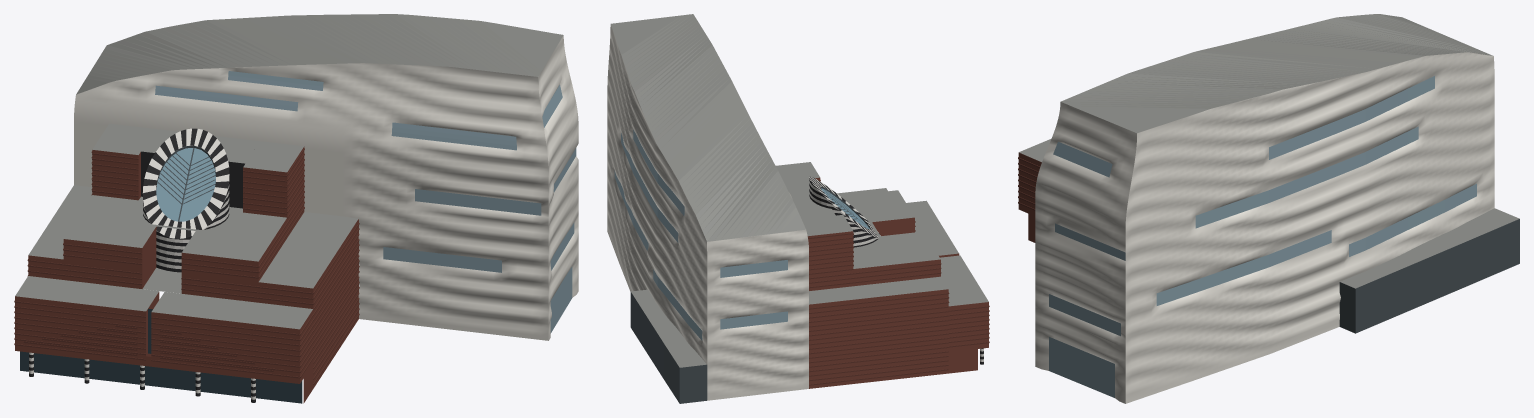
Rendered from sfmoma-near.glb.
The picture shows the model from 3 angles, left to right: view 1: azimuth 30°, elevation 25°; view 2: azimuth 150°, elevation 25°; view 3: azimuth 270°, elevation 25°; orthographic projection. The views are drawn at different scales.
Visible parts, largest first — view 1: sfmoma-0-frp, sfmoma-0-concrete, sfmoma-0-brick, sfmoma-0-brickDark, sfmoma-0-glass, sfmoma-0-glassDark, sfmoma-0-stoneBlack, sfmoma-0-stoneWhite, sfmoma-0-glow, sfmoma-0-steel; view 2: sfmoma-0-concrete, sfmoma-0-frp, sfmoma-0-brick, sfmoma-0-brickDark, sfmoma-0-glass, sfmoma-0-steel, sfmoma-0-stoneBlack, sfmoma-0-stoneWhite, sfmoma-0-glow; view 3: sfmoma-0-frp, sfmoma-0-concrete, sfmoma-0-glass, sfmoma-0-steel, sfmoma-0-brick.
Boxes of the visible parts, left/top/right/bottom form: sfmoma-0-frp: left=74, top=35, right=578, bottom=340; sfmoma-0-concrete: left=15, top=14, right=563, bottom=329; sfmoma-0-brick: left=15, top=146, right=358, bottom=403; sfmoma-0-brickDark: left=14, top=148, right=359, bottom=384; sfmoma-0-glass: left=155, top=71, right=576, bottom=333; sfmoma-0-glassDark: left=20, top=308, right=302, bottom=403; sfmoma-0-stoneBlack: left=29, top=128, right=255, bottom=402; sfmoma-0-stoneWhite: left=29, top=128, right=255, bottom=399; sfmoma-0-glow: left=156, top=148, right=215, bottom=221; sfmoma-0-steel: left=156, top=145, right=215, bottom=221; sfmoma-0-concrete: left=610, top=14, right=988, bottom=367; sfmoma-0-frp: left=607, top=25, right=808, bottom=400; sfmoma-0-brick: left=807, top=177, right=988, bottom=388; sfmoma-0-brickDark: left=808, top=180, right=989, bottom=385; sfmoma-0-glass: left=614, top=129, right=787, bottom=340; sfmoma-0-steel: left=630, top=186, right=870, bottom=403; sfmoma-0-stoneBlack: left=809, top=176, right=983, bottom=364; sfmoma-0-stoneWhite: left=809, top=177, right=983, bottom=361; sfmoma-0-glow: left=821, top=188, right=869, bottom=229; sfmoma-0-frp: left=1035, top=52, right=1494, bottom=403; sfmoma-0-concrete: left=1019, top=14, right=1519, bottom=288; sfmoma-0-glass: left=1049, top=76, right=1476, bottom=397; sfmoma-0-steel: left=1339, top=219, right=1519, bottom=333; sfmoma-0-brick: left=1018, top=152, right=1041, bottom=242.
Size of the model in its own units: 130 by 62 by 106.
